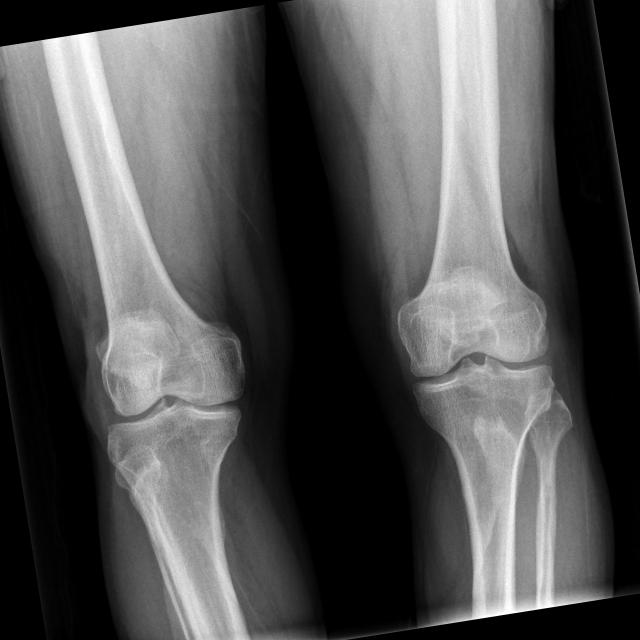Knee: (93, 341, 265, 488), (394, 291, 566, 431)
